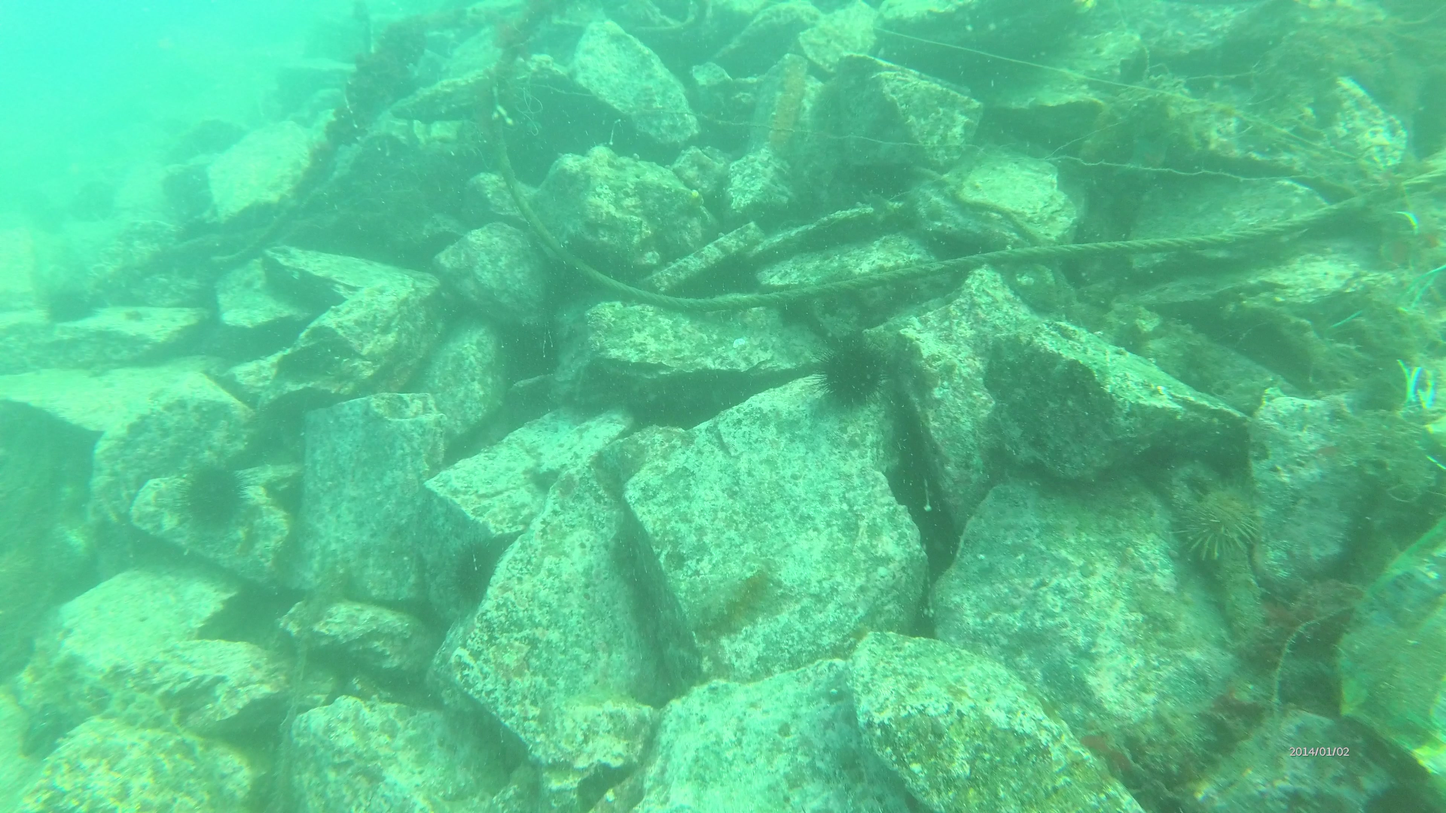starfish: (1174, 482, 1266, 567), (172, 460, 249, 535), (812, 344, 886, 417), (441, 535, 501, 611)
